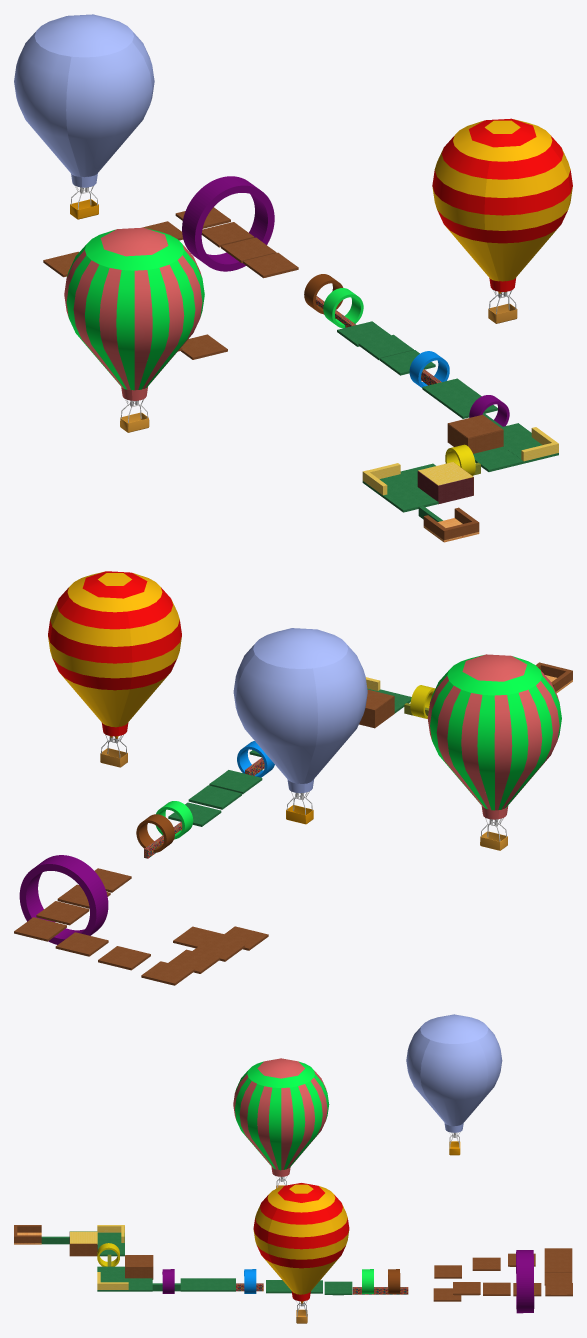
File: LEVEL 19.fbx
3 renders of one model, top to bottom at view 1: azimuth 30°, elevation 25°; view 2: azimuth 150°, elevation 25°; view 3: azimuth 270°, elevation 25°, orthographic. The views are drawn at different scales.
Visible parts, largest first — view 1: ballon_, ballon___2_, ballon___1_, purple__1_, green, _4x4__2___4_, _4x4__8_, _4x4__5_, blue, _4x4__2___6_, _4x4__2___5_, _4x4__2___2_ (+7 smaller); view 2: ballon_, ballon___1_, ballon___2_, purple__1_, brown, _4x4__2___2_, _4x4__2___6_, _4x4__2___8_, _4x4__2___10_, _4x4__2___9_, _4x4__2___7_, _4x4__2___1_ (+8 smaller); view 3: ballon___1_, ballon_, ballon___2_, purple__1_, _4x4__2___3_, _4x4__2_, _4x4__2___12_.
Part boxes in pixels (box(x1,y1,x2,y2)): ballon_: box(432, 118, 572, 323); ballon___2_: box(64, 227, 204, 432); ballon___1_: box(14, 14, 154, 219); purple__1_: box(182, 176, 274, 271); green: box(323, 288, 363, 328); _4x4__2___4_: box(243, 252, 298, 278); _4x4__8_: box(383, 487, 438, 512); _4x4__5_: box(473, 446, 523, 471); blue: box(409, 351, 449, 387); _4x4__2___6_: box(201, 222, 254, 247); _4x4__2___5_: box(221, 237, 276, 262); _4x4__2___2_: box(358, 334, 413, 360); ballon_: box(48, 571, 181, 767); ballon___1_: box(233, 628, 367, 824); ballon___2_: box(427, 654, 561, 850); purple__1_: box(19, 855, 108, 944); brown: box(136, 814, 174, 852); _4x4__2___2_: box(188, 785, 241, 809); _4x4__2___6_: box(36, 901, 89, 925); _4x4__2___8_: box(55, 932, 108, 956); _4x4__2___10_: box(141, 961, 194, 985); _4x4__2___9_: box(98, 946, 150, 970); _4x4__2___7_: box(14, 917, 66, 941); _4x4__2___1_: box(209, 770, 262, 794); ballon___1_: box(406, 1014, 502, 1155); ballon_: box(253, 1183, 349, 1323); ballon___2_: box(233, 1058, 329, 1188); purple__1_: box(516, 1250, 534, 1313); _4x4__2___3_: box(324, 1281, 352, 1295); _4x4__2_: box(180, 1278, 208, 1291); _4x4__2___12_: box(472, 1257, 500, 1270).
Size of the model in its own units: 5736 by 3801 by 8058.
26 materials, 12 textured.
